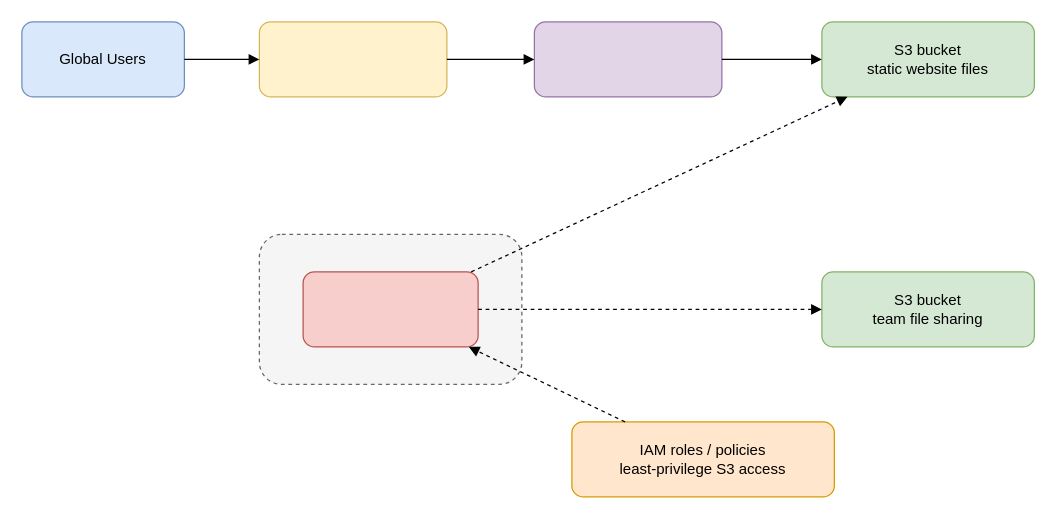
Some shapes in this 1056 by 519 pixel diagram are drawn without their labels. Each missing label, with the centre of its shape:
"CloudFront CDN cache" belongs at point (627, 59).
"EC2 support VM AWS CLI testing" belongs at point (390, 309).
"Route 53 DNS routing" belongs at point (352, 59).
